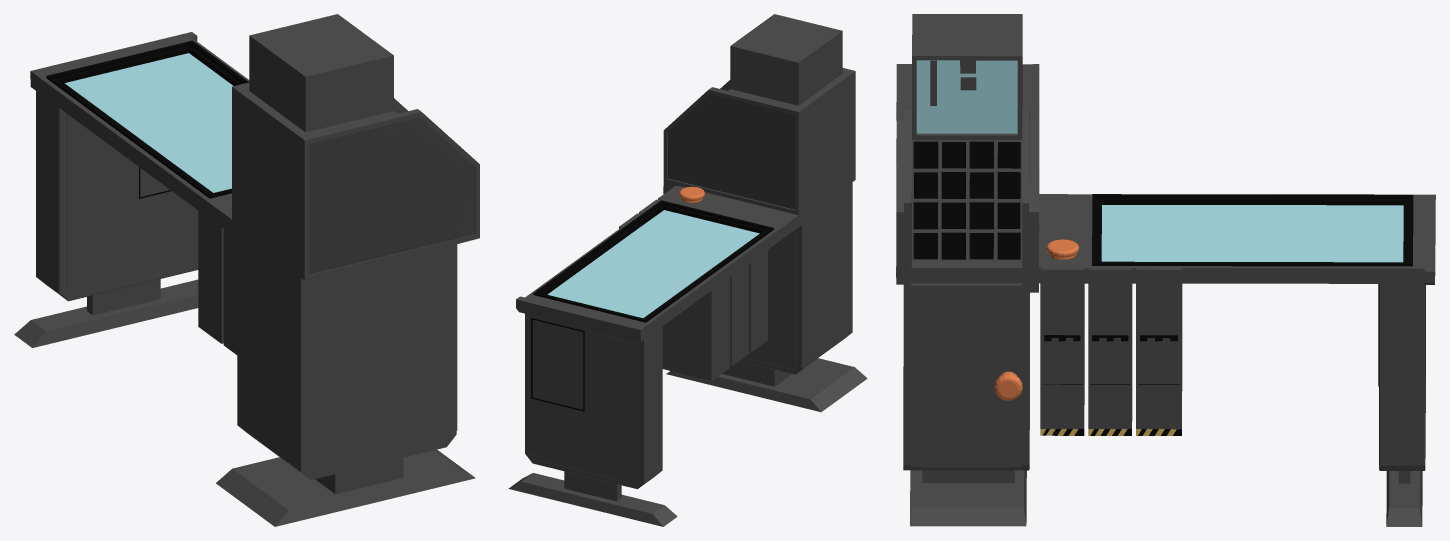
File: station3.fbx
3 renders of one model, left to right at view 1: azimuth 30°, elevation 25°; view 2: azimuth 150°, elevation 25°; view 3: azimuth 270°, elevation 25°, orthographic. The views are drawn at different scales.
Parts seen in each view (by area): view 1: station3; view 2: station3; view 3: station3.
Boxes of the visible parts, <box> form: station3: <box>14,14,479,526</box>; station3: <box>508,14,867,526</box>; station3: <box>896,14,1435,526</box>.
Bounding box in the file's own units: 2.77 × 6.55 × 5.78.
